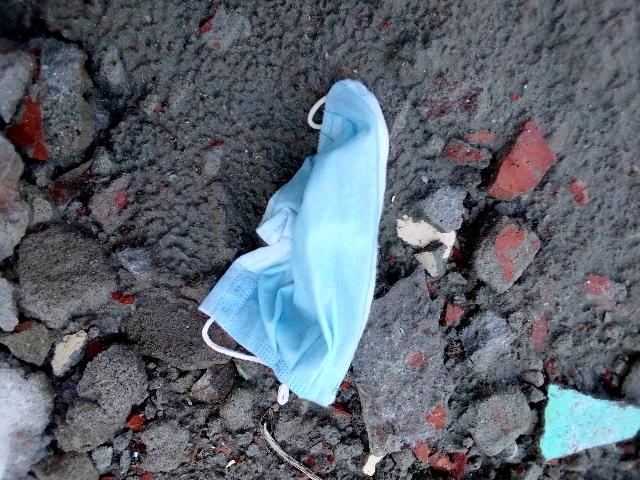mask: (192, 56, 410, 445)
